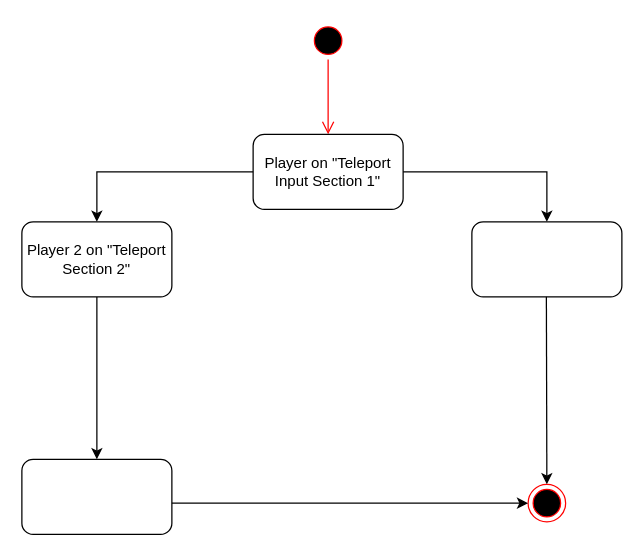
Some shapes in this 644 by 556 pixel diagram are drawn without their labels. The centre of each missing label's shape, as x and y in pixels:
Player 2 not on "Teleport Section 2": pixel 546 259
Player 2 on "Teleport Output Section 1" and Player 1 on "Teleport Section 2": pixel 96 496
